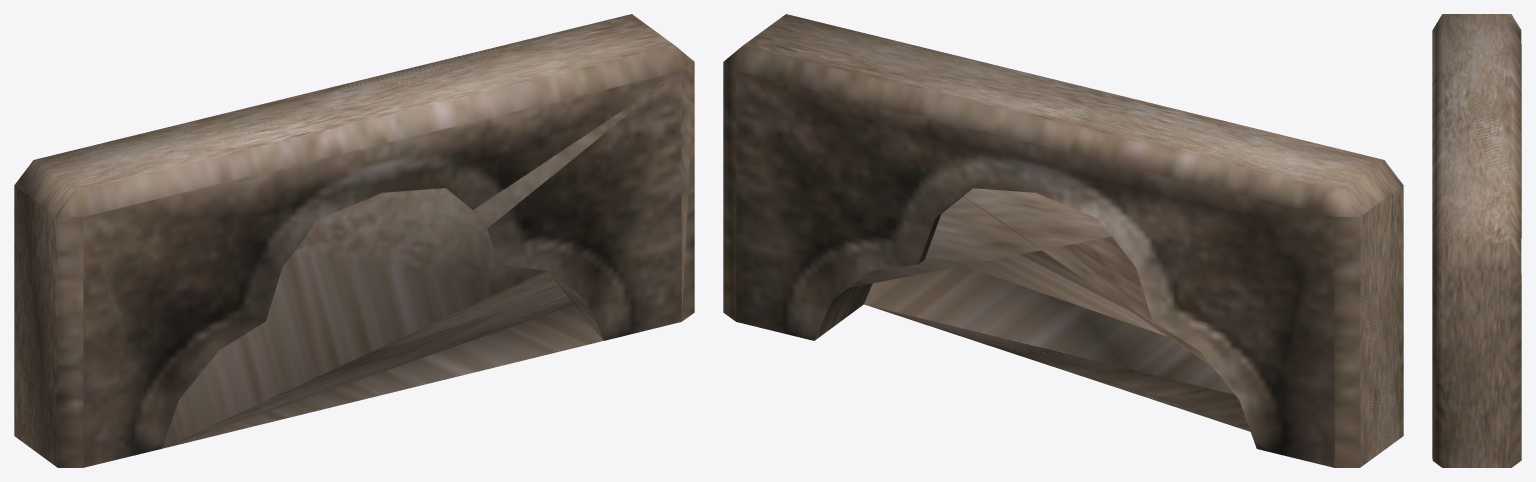
The model's file is stga6.dae.
3 views of the same model, side by side, from view 1: azimuth 30°, elevation 25°; view 2: azimuth 150°, elevation 25°; view 3: azimuth 270°, elevation 25° (orthographic). The views are drawn at different scales.
Visible parts, largest first — view 1: crown, col1, col2; view 2: crown, col1, door2, col2; view 3: crown, col1, col2.
Part boxes in pixels (left/top/right/bottom): crown: left=14, top=14, right=694, bottom=467; col1: left=14, top=18, right=694, bottom=465; col2: left=14, top=62, right=694, bottom=464; crown: left=723, top=14, right=1403, bottom=467; col1: left=756, top=49, right=1402, bottom=466; door2: left=849, top=188, right=1111, bottom=287; col2: left=964, top=221, right=1399, bottom=460; crown: left=1432, top=14, right=1521, bottom=467; col1: left=1432, top=14, right=1511, bottom=467; col2: left=1432, top=262, right=1441, bottom=453.
Bounding box in the file's own units: 2.07 × 0.3158 × 0.8419.
Materials: 1 (1 with a texture image).
